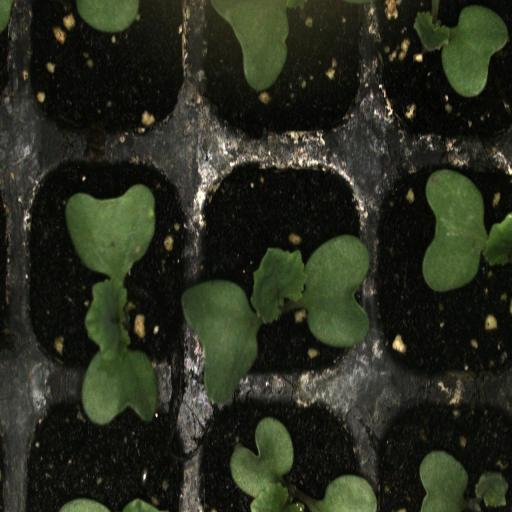Folha: (208, 0, 308, 92), (414, 5, 512, 98), (76, 0, 141, 33)
Germinacao: (190, 150, 375, 398), (18, 151, 188, 380), (376, 150, 512, 392), (192, 401, 377, 512)
